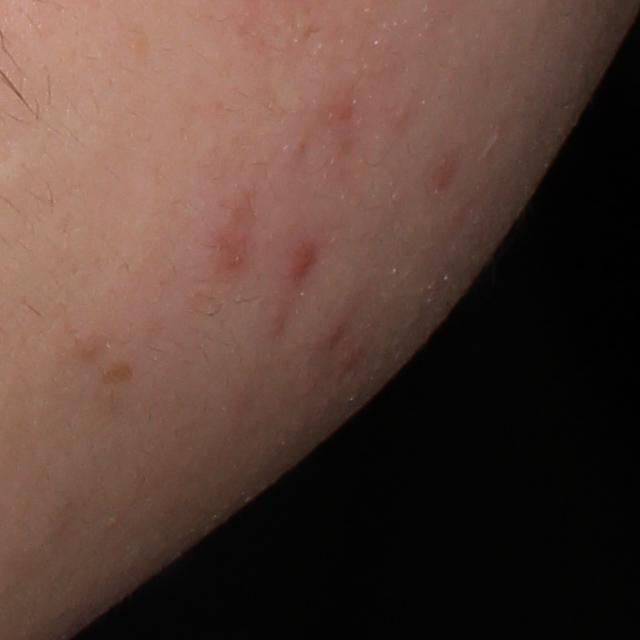papule: (290, 239, 315, 285)
